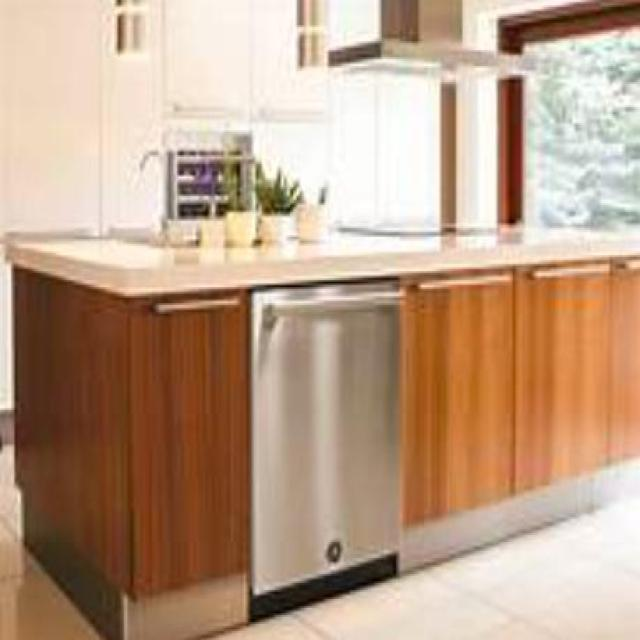dishwasher: (248, 271, 399, 622)
